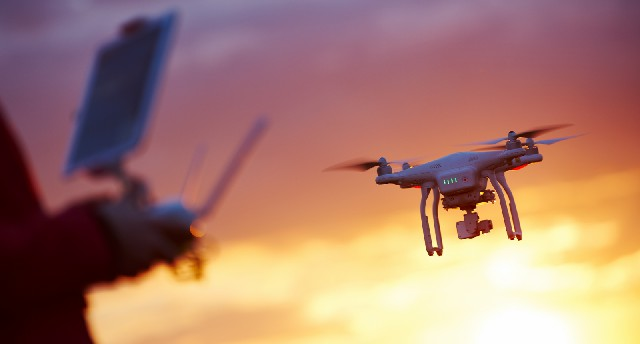maybay_khongnguoilai: (328, 111, 569, 263)
